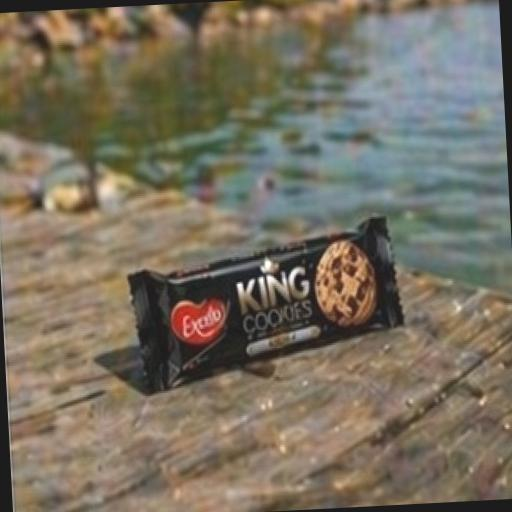king_cooking: (80, 162, 450, 412)
